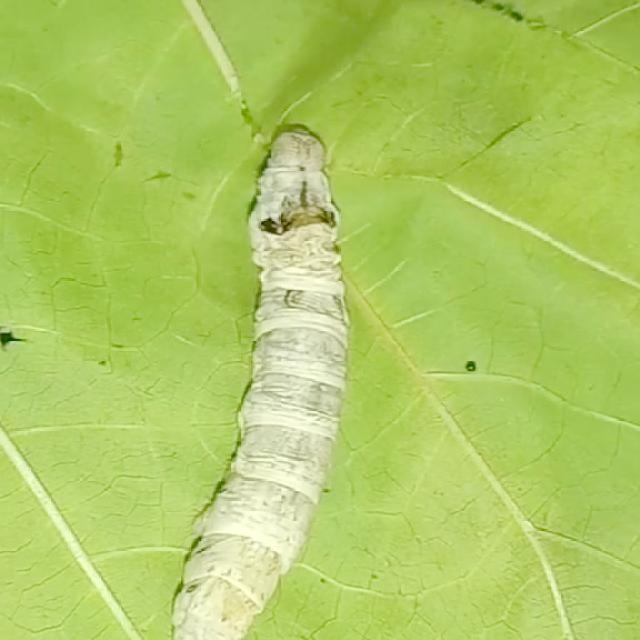Grasserie: (131, 90, 415, 640)
